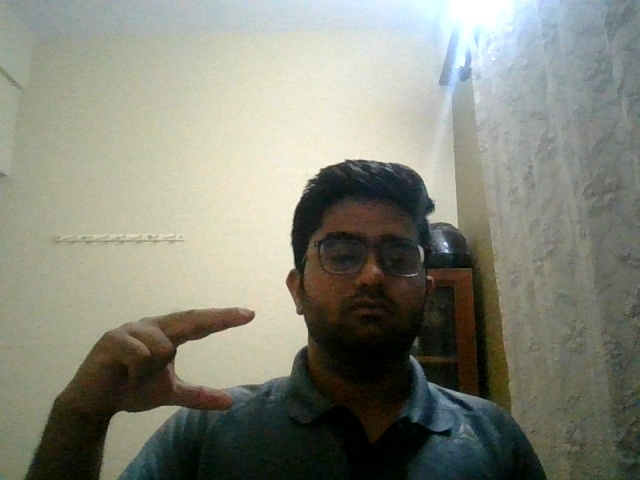No: (38, 286, 263, 457)
